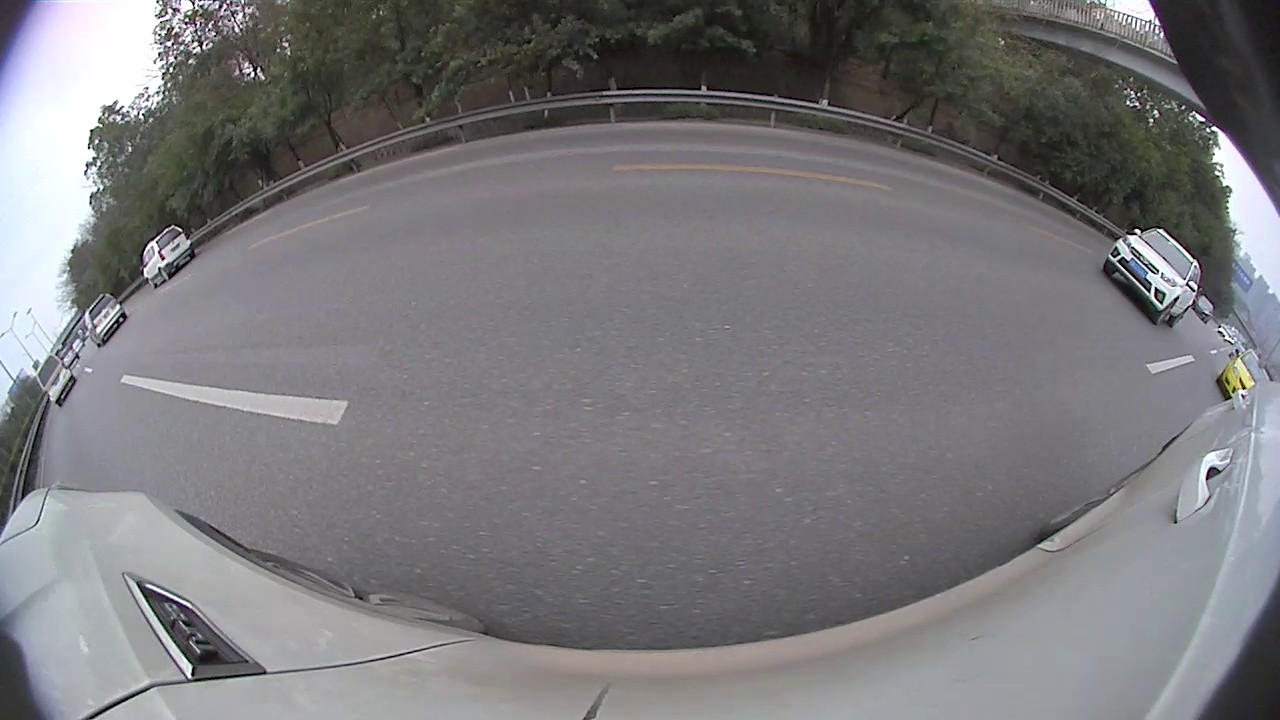car: (1, 173, 405, 525), (587, 108, 808, 258), (1128, 287, 1279, 414), (805, 144, 941, 236), (505, 146, 585, 207)
front: (344, 226, 398, 299), (1153, 315, 1196, 367)
rear: (29, 421, 131, 525), (838, 186, 865, 229)
rider: (1098, 240, 1223, 310)
